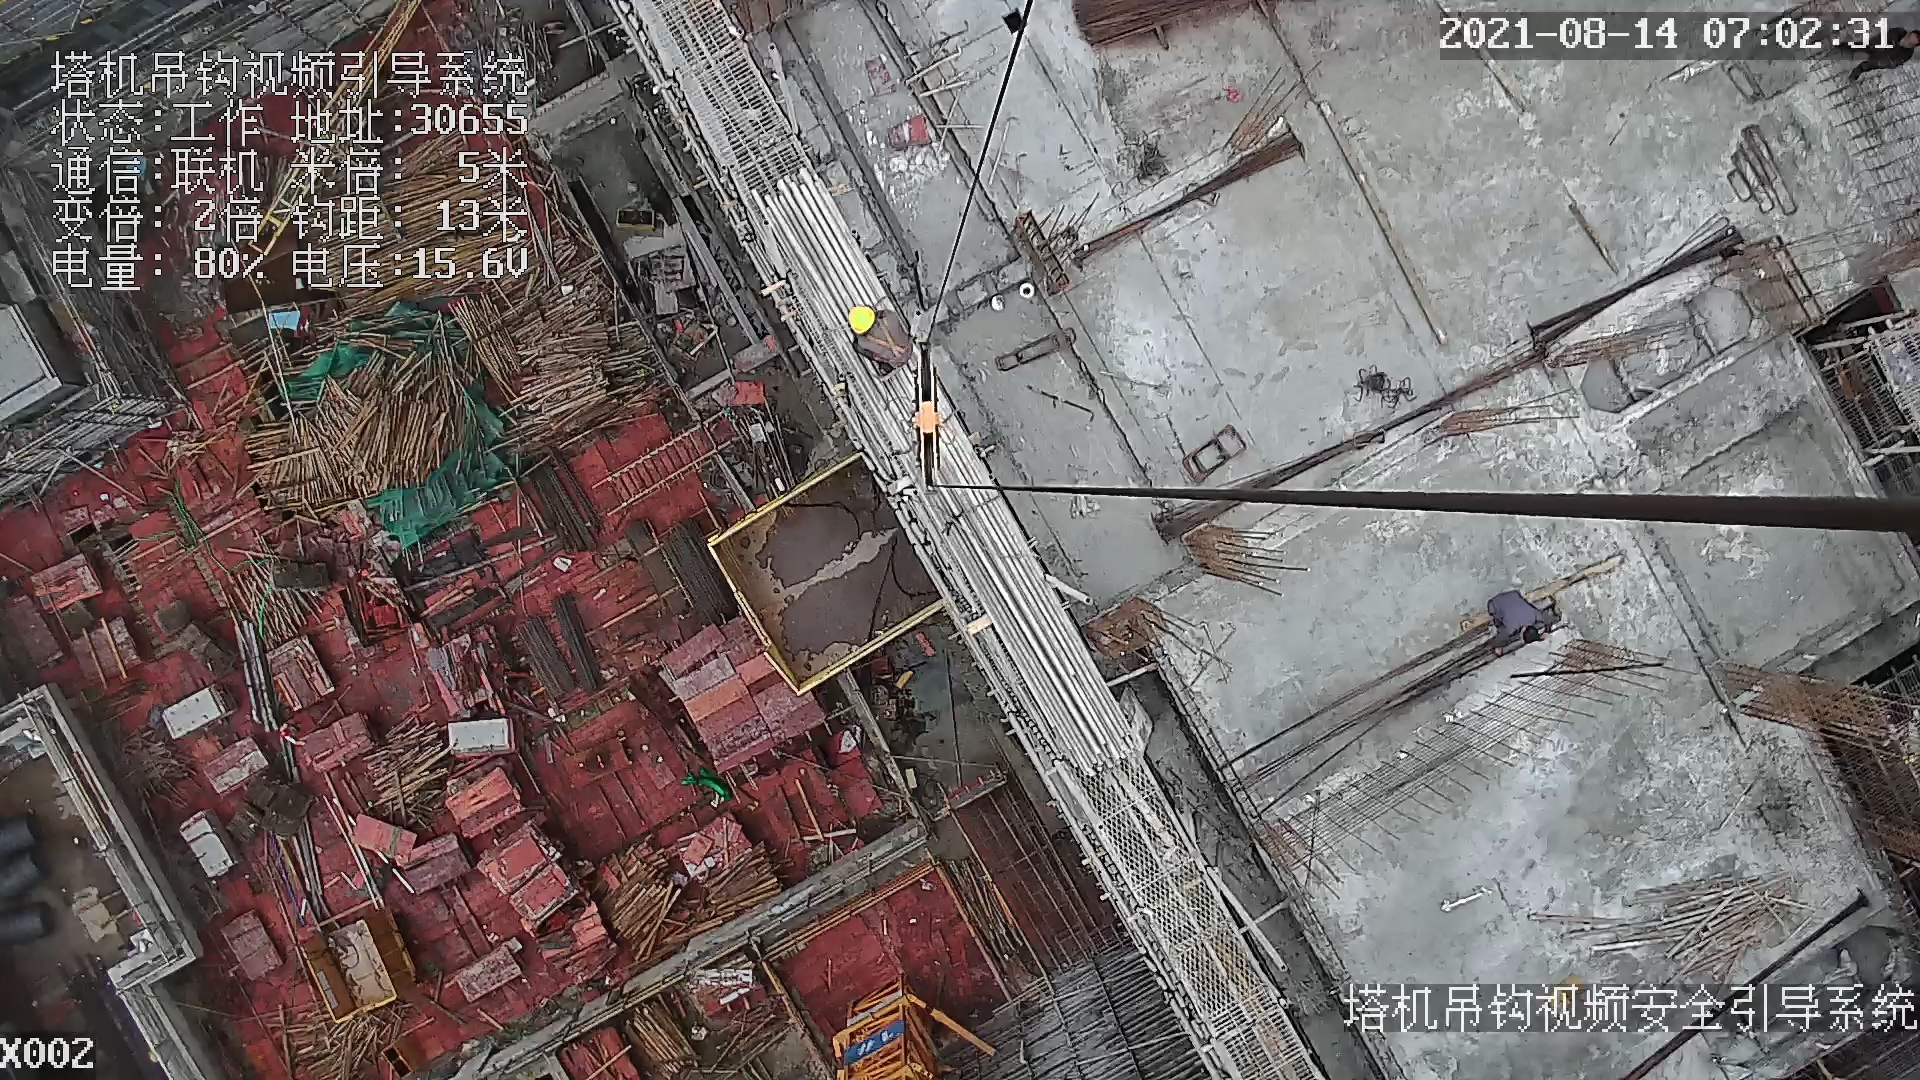helmet: (849, 300, 878, 335)
hook: (908, 342, 942, 495)
person: (849, 301, 920, 377), (1485, 590, 1562, 650)
slogan: (833, 1020, 901, 1069)
